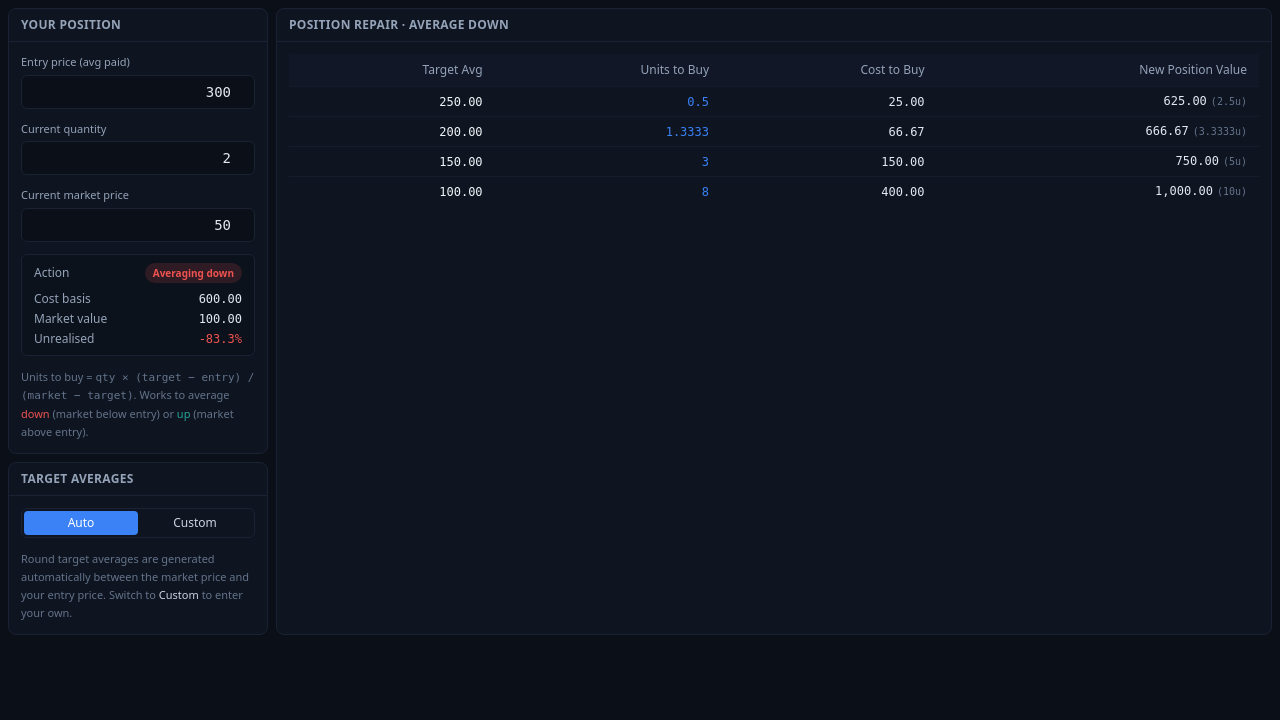
Test: PositionRepairPanel › uses user-supplied target averages in Custom mode
Click the button "Custom" at (195, 523), box [138,511,252,535]
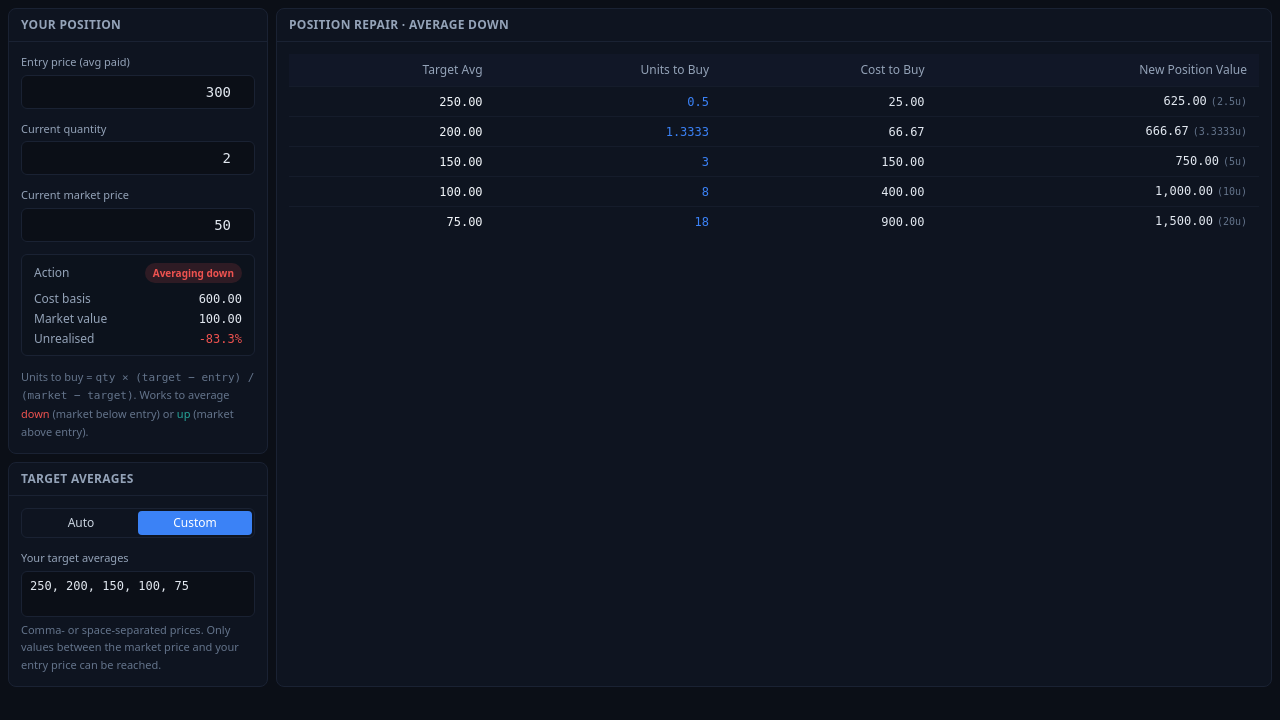
Replace the text in the text box labelled "Your target averages" with "120, 80" at (138, 594), box [21,570,255,616]
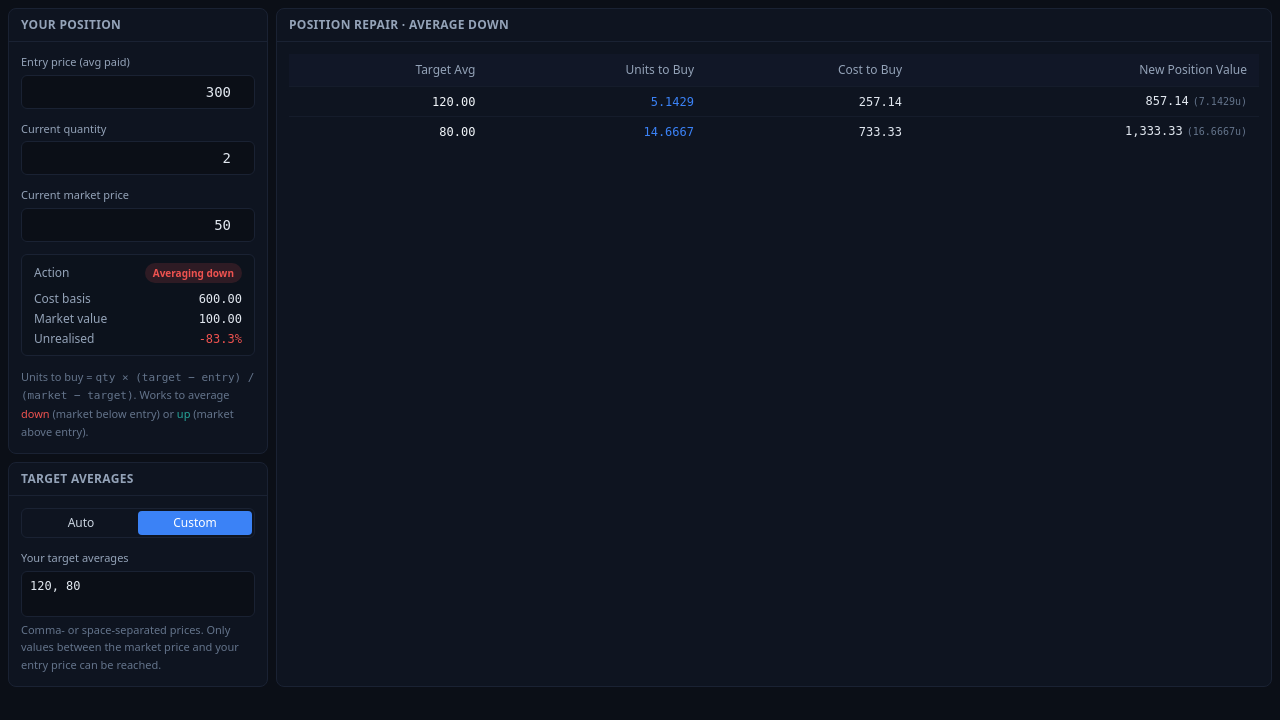
expect the text "120.00" is shown: met, box [289,86,488,116]
expect the text "80.00" is shown: met, box [289,116,488,146]
expect the text "250.00" is gone: met
